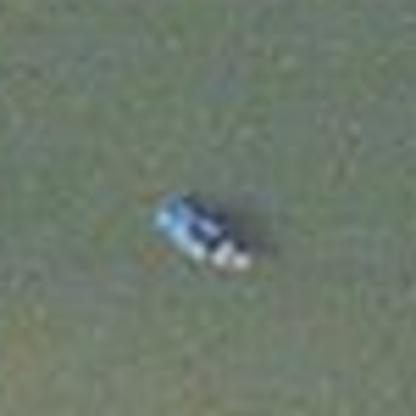ship: (137, 186, 261, 276)
